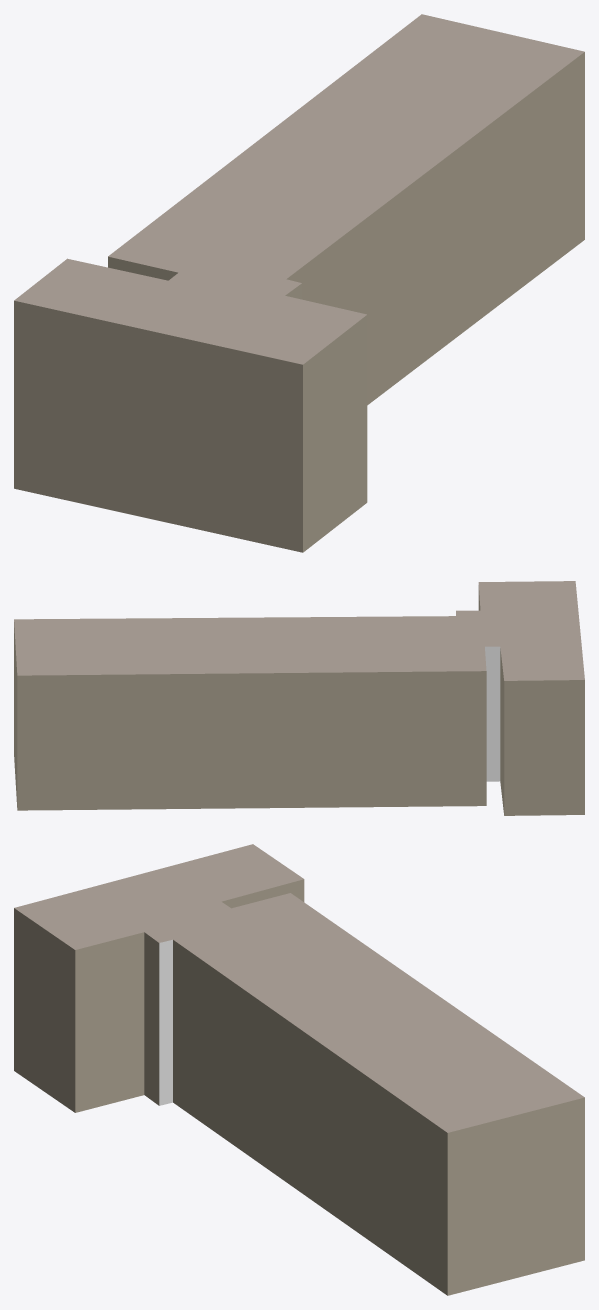
3 views of the same model, one above another, from view 1: azimuth 30°, elevation 25°; view 2: azimuth 150°, elevation 25°; view 3: azimuth 270°, elevation 25° (orthographic). The views are drawn at different scales.
Visible parts, largest first — view 1: tuile; view 2: tuile; view 3: tuile.
Boxes of the visible parts, bbox=[...] form: tuile: bbox=[14, 14, 584, 552]; tuile: bbox=[14, 581, 584, 815]; tuile: bbox=[14, 844, 584, 1295].
Size of the model in its own units: 69.2 by 18.2 by 57.8.
